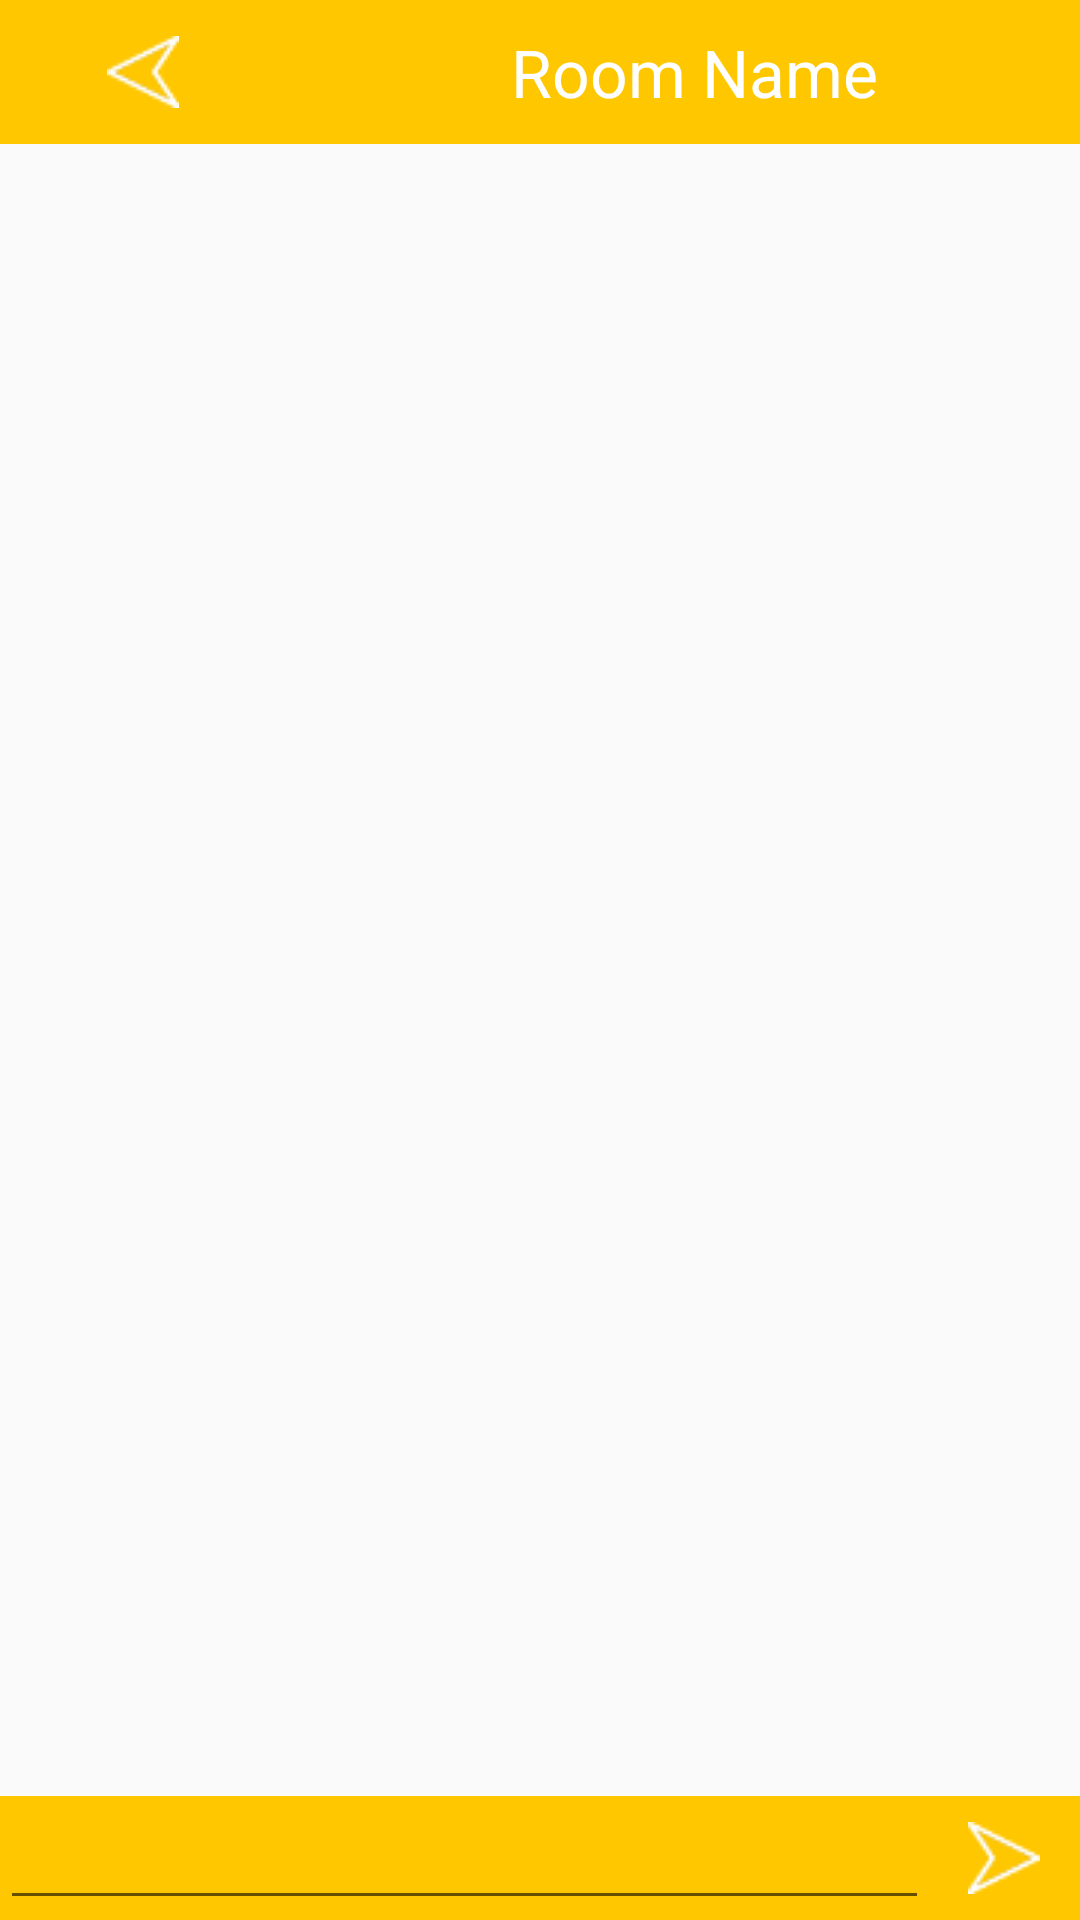

Icon click points for this 1080*1920 phone screenshot, format (x,y):
next: (1004,1858)
previous: (143,72)
